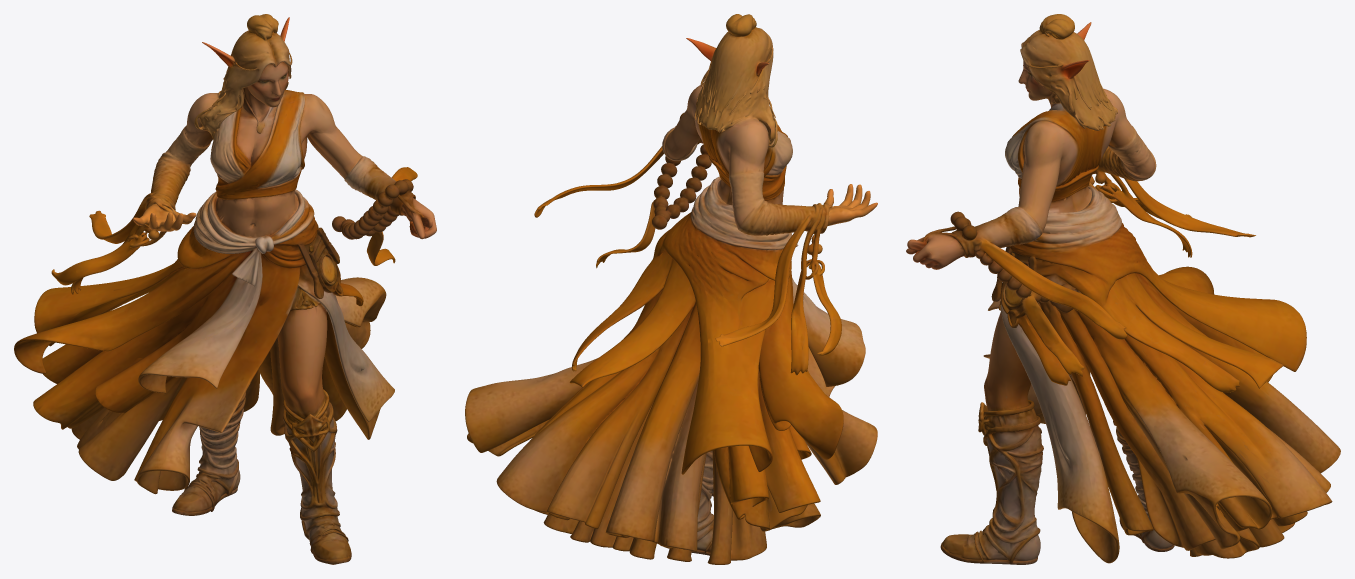
Rendered from elf_monk_full_female_01.glb.
3 views of the same model, side by side, from view 1: azimuth 30°, elevation 25°; view 2: azimuth 150°, elevation 25°; view 3: azimuth 270°, elevation 25° (orthographic). The views are drawn at different scales.
Visible parts, largest first — view 1: material; view 2: material; view 3: material.
Boxes of the visible parts, bbox=[...] form: material: bbox=[14, 14, 436, 564]; material: bbox=[465, 14, 877, 564]; material: bbox=[906, 14, 1340, 564].
Bounding box in the file's own units: 0.7814 × 1.03 × 0.7711.
Materials: 1 (1 with a texture image).
